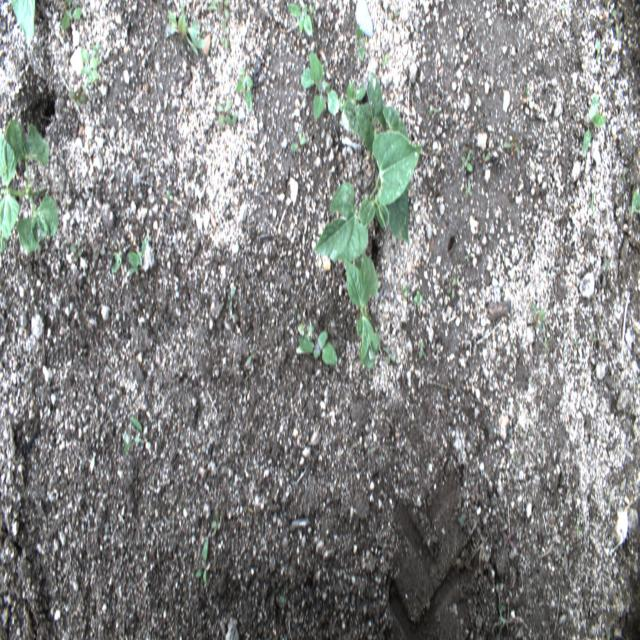crop: (314, 73, 424, 262), (0, 119, 59, 254), (345, 255, 379, 367), (9, 0, 37, 52)
weed: (301, 48, 339, 121), (168, 0, 207, 59), (294, 332, 338, 364), (582, 94, 606, 152), (234, 66, 254, 114), (79, 47, 100, 91), (496, 604, 522, 639), (336, 83, 366, 113), (287, 2, 313, 36), (60, 0, 83, 33), (128, 237, 147, 276), (215, 98, 238, 129), (195, 537, 208, 586), (355, 21, 367, 64), (530, 303, 546, 332), (290, 130, 308, 155), (628, 184, 640, 220), (608, 7, 621, 40), (130, 416, 145, 444), (503, 139, 521, 161), (459, 148, 473, 173), (210, 509, 222, 538), (110, 249, 123, 274), (215, 0, 231, 20), (220, 19, 230, 51), (244, 342, 256, 368), (226, 284, 236, 314), (412, 287, 424, 310), (382, 346, 396, 365), (447, 274, 457, 300), (69, 239, 82, 258), (478, 152, 490, 172), (502, 531, 514, 548), (123, 431, 130, 456), (417, 338, 424, 362), (464, 178, 472, 198), (166, 188, 173, 204), (402, 282, 408, 300), (381, 54, 388, 66), (464, 253, 472, 261)
